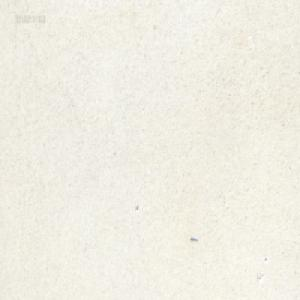Nail: (190, 236, 198, 241)
